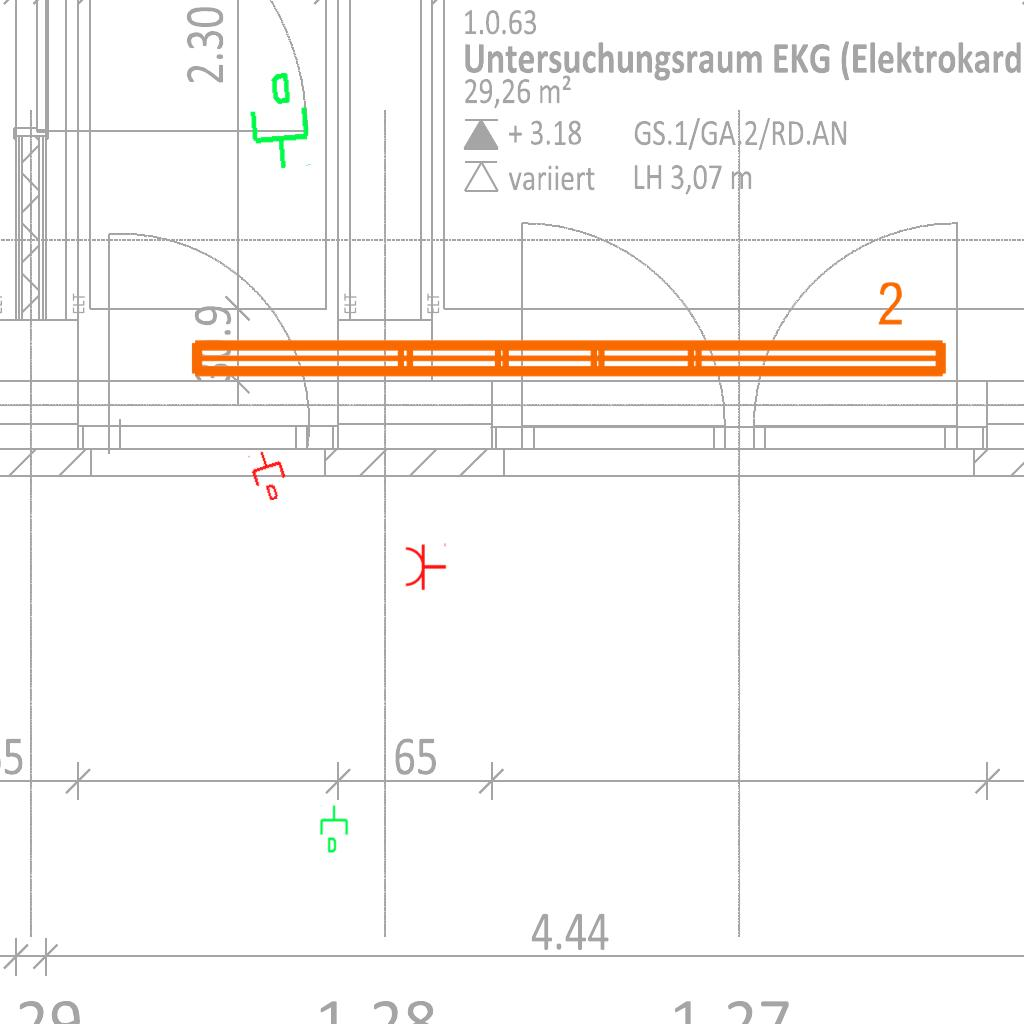Ambulanz_Pendelleuchte_LED: (181, 277, 955, 389)
Datenanschluss_einfach: (238, 68, 317, 174), (245, 445, 293, 505), (318, 804, 352, 854)
Schukosteckdose_einfach: (404, 541, 447, 591)
